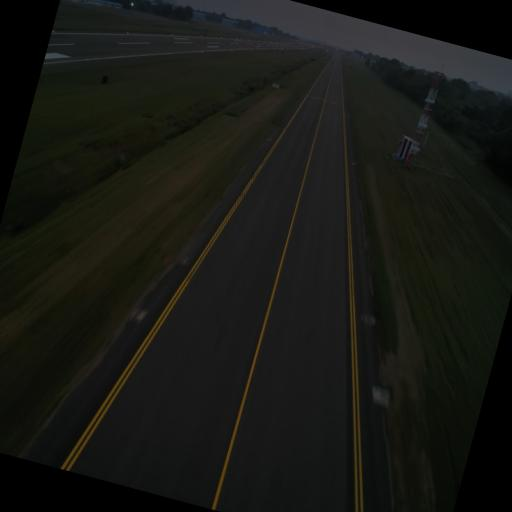on: (372, 385, 386, 400), (268, 136, 271, 140), (352, 160, 354, 164)
